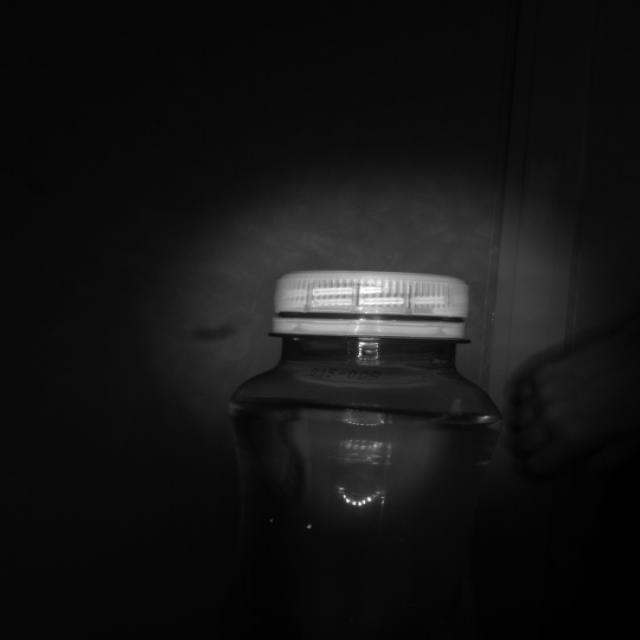Not Good: (276, 270, 468, 338)
